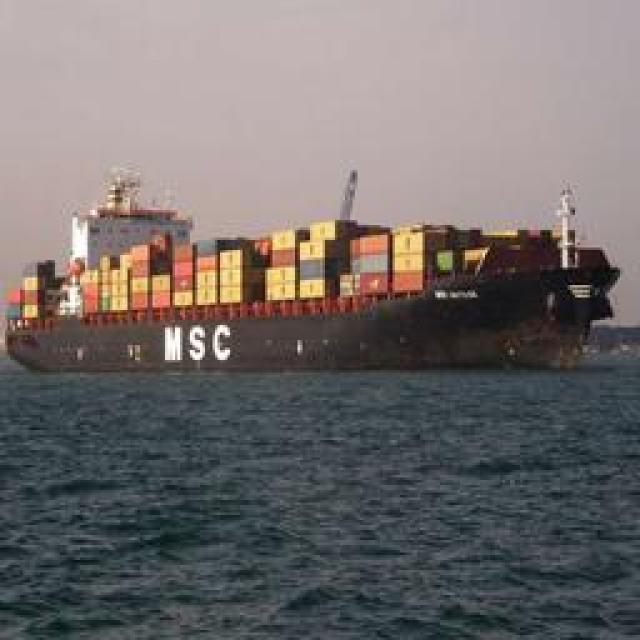CIV_Ship: (24, 177, 616, 325)
